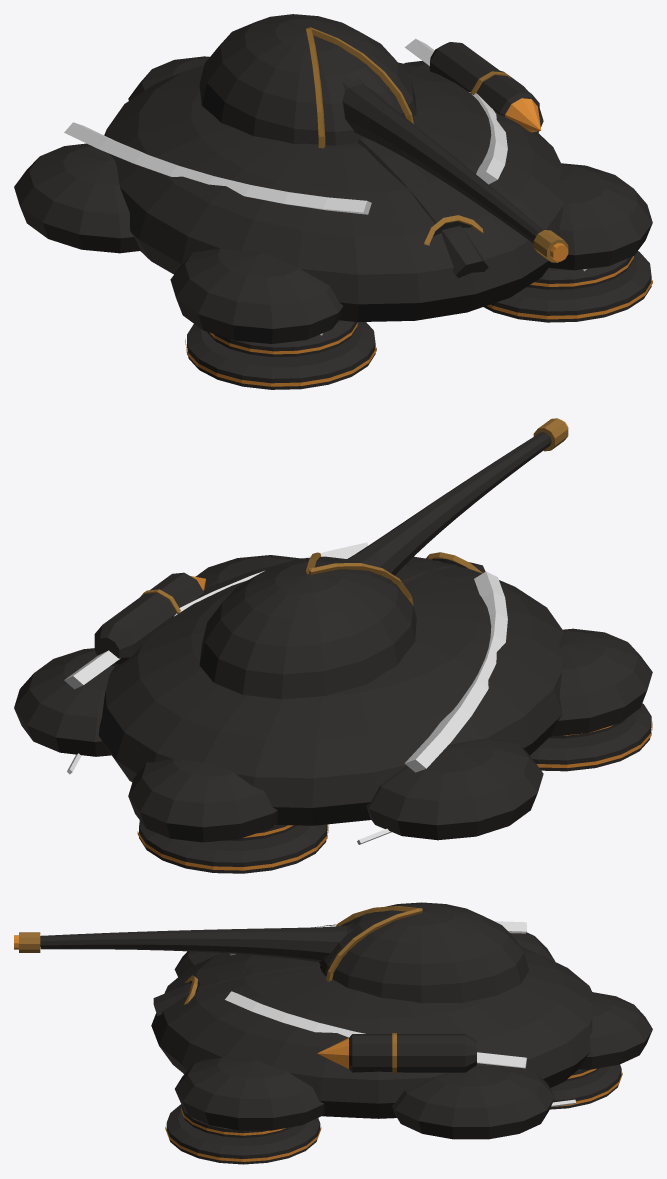
Rendered from tank_t2.glb.
3 views of the same model, one above another, from view 1: azimuth 30°, elevation 25°; view 2: azimuth 150°, elevation 25°; view 3: azimuth 270°, elevation 25° (orthographic). The views are drawn at different scales.
Parts seen in each view (by area): view 1: body, top; view 2: body, top; view 3: body, top.
Boxes of the visible parts, x1,y1,x2,y2 form: body: (14,38,652,389); top: (199,14,568,262); body: (14,542,652,873); top: (199,418,568,699); body: (151,921,652,1164); top: (14,902,529,1003).
Bounding box in the file's own units: 7.53 × 3.13 × 10.39.
